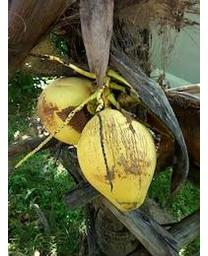coconut: (76, 109, 158, 212), (38, 76, 109, 146)
